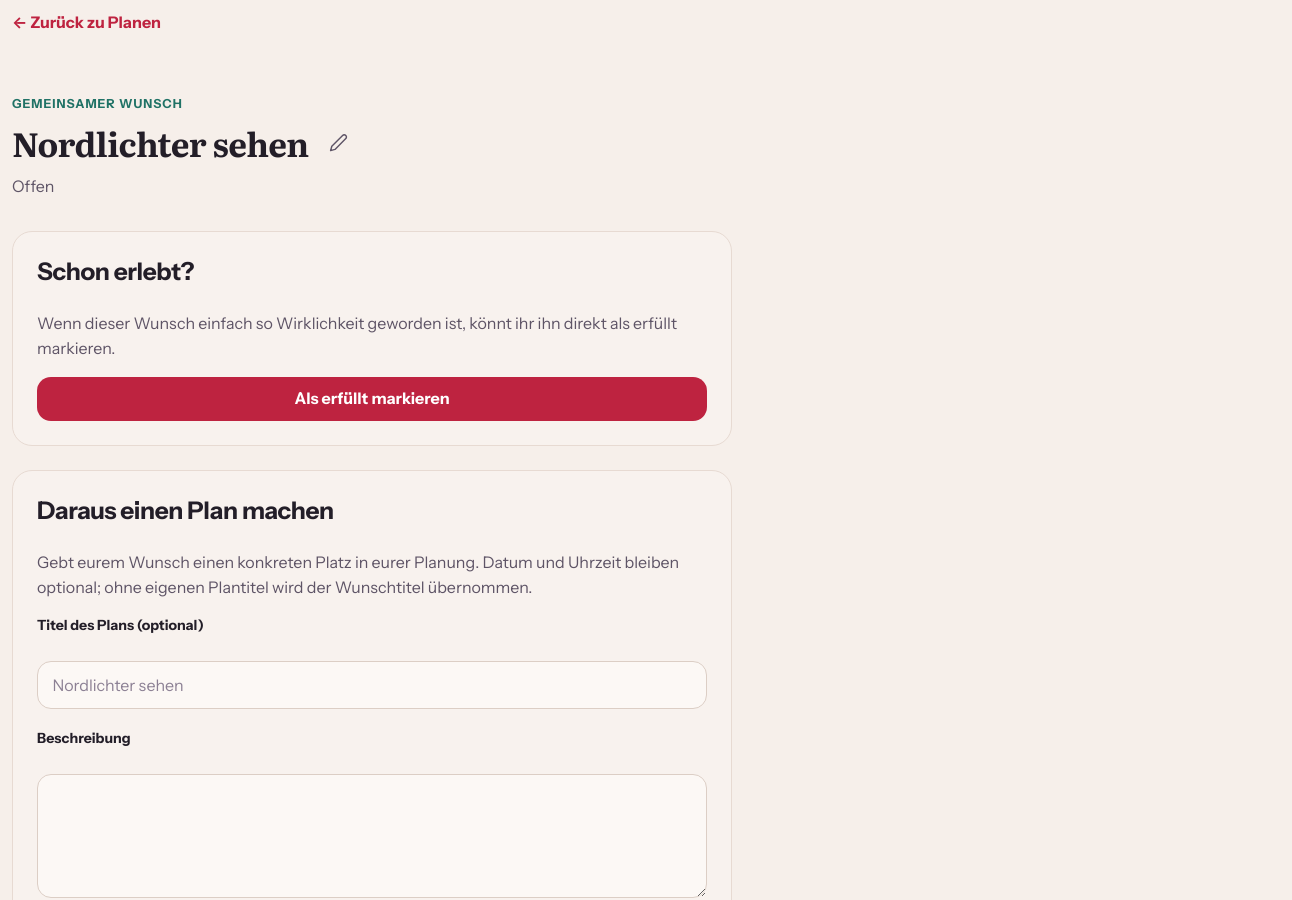
Test: WishProductPage direct completion › completes server-side, focuses the continuation, and restores focus when dismissed
Click the button "Als erfüllt markieren" at (372, 399), box [37,377,707,421]
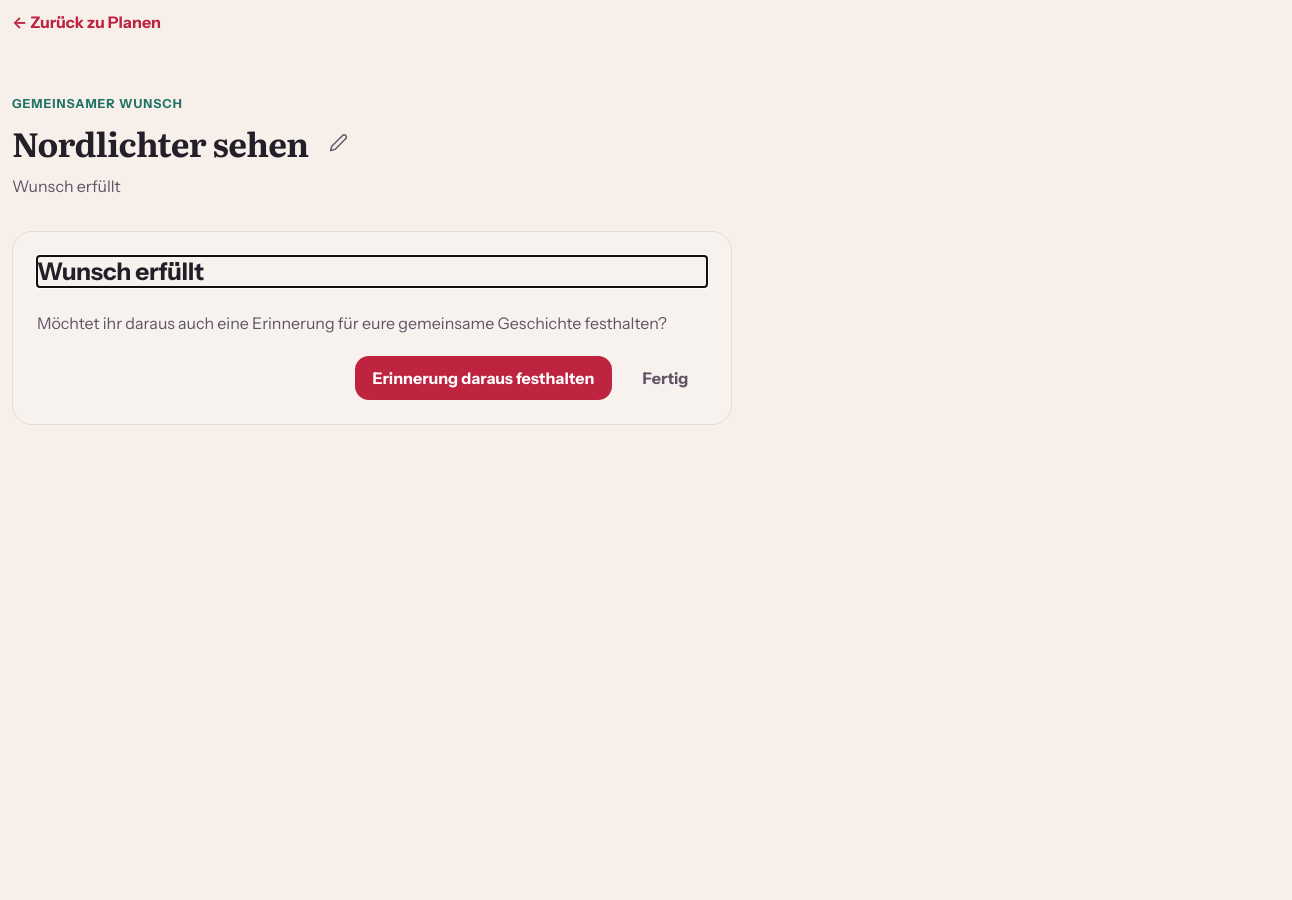
Expected: the button "Erinnerung daraus festhalten" is shown, [355,356,612,400]
Click the button "Fertig" at (665, 378), box [624,356,707,400]
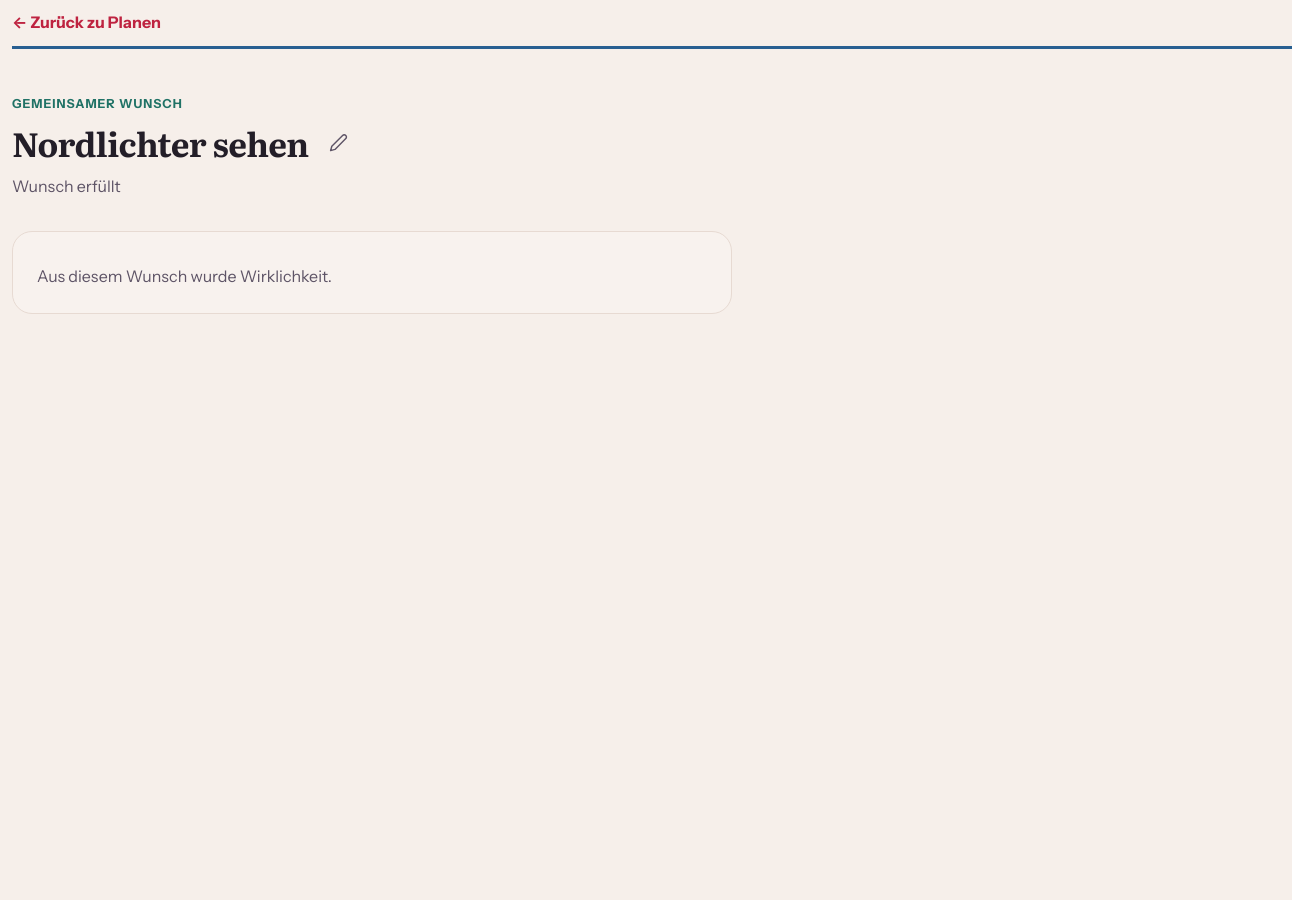
Expected: the text "Aus diesem Wunsch wurde Wirklichkeit." is shown, [37,266,332,286]
